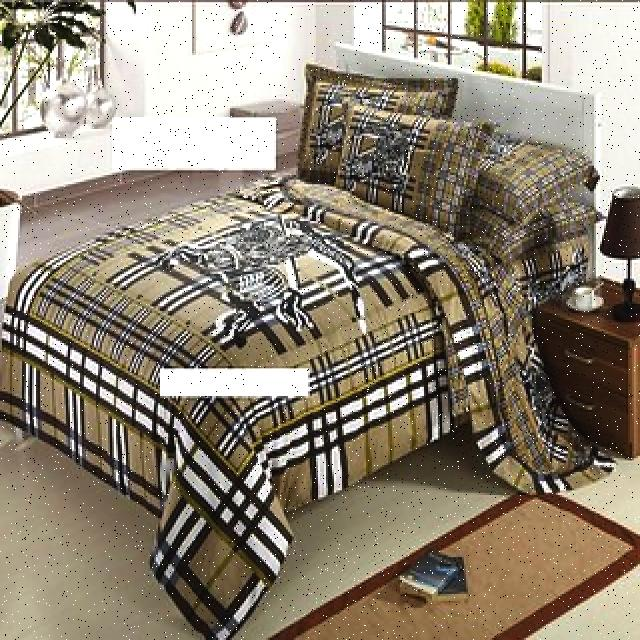bed: (78, 96, 585, 468)
